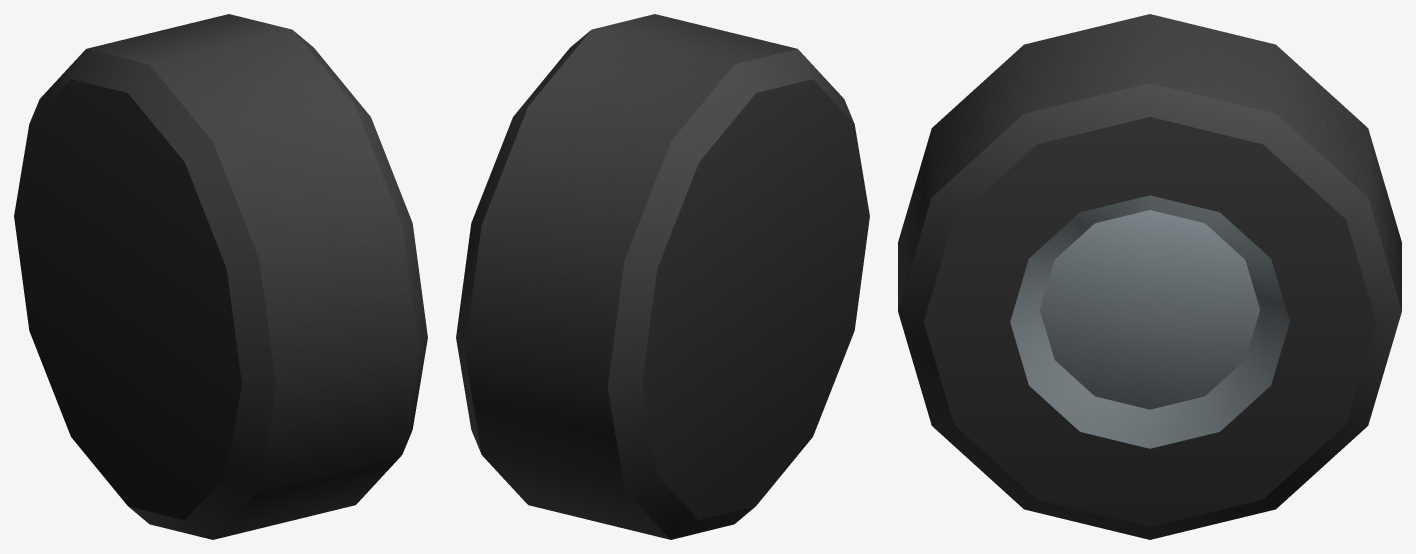
Rendered from single_wheelglb.glb.
3 renders of one model, left to right at view 1: azimuth 30°, elevation 25°; view 2: azimuth 150°, elevation 25°; view 3: azimuth 270°, elevation 25°, orthographic.
Parts seen in each view (by area): view 1: car_hatchback_wheel_front_left_Cylinder.295; view 2: car_hatchback_wheel_front_left_Cylinder.295; view 3: car_hatchback_wheel_front_left_Cylinder.295.
Part boxes in pixels (<box>): car_hatchback_wheel_front_left_Cylinder.295: <box>14,14,427,539</box>; car_hatchback_wheel_front_left_Cylinder.295: <box>456,14,869,539</box>; car_hatchback_wheel_front_left_Cylinder.295: <box>898,14,1401,539</box>.
Bounding box in the file's own units: 0.0612 × 0.1446 × 0.1446.
1 material, 1 textured.
